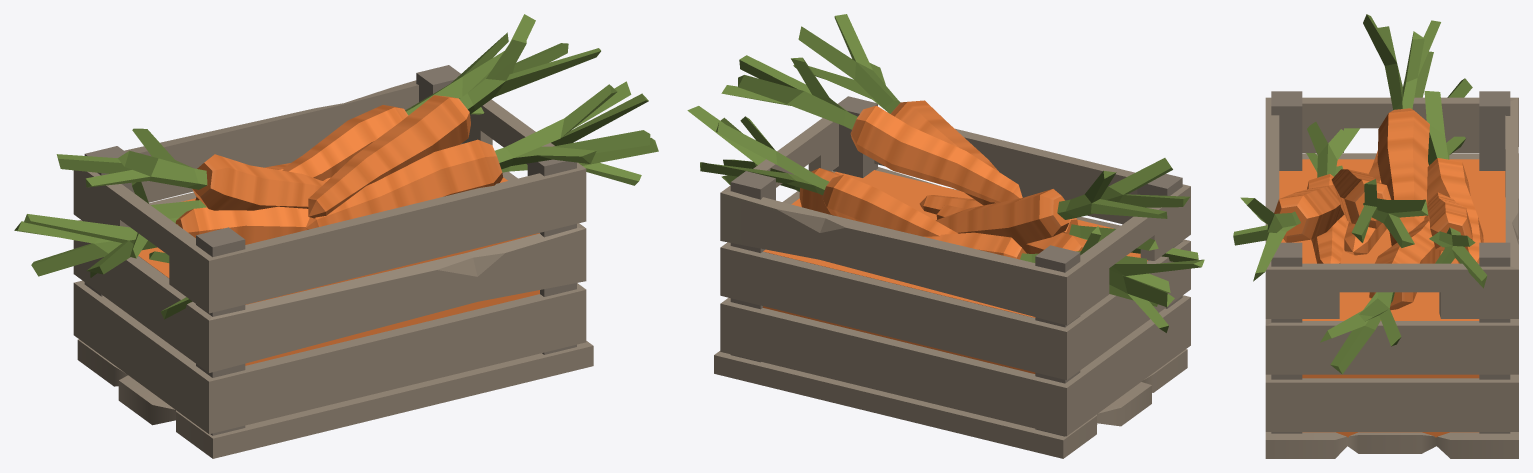
Rendered from SM_Prop_Box_Carrot_01.glb.
The picture shows the model from 3 angles, left to right: view 1: azimuth 30°, elevation 25°; view 2: azimuth 150°, elevation 25°; view 3: azimuth 270°, elevation 25°; orthographic projection. The views are drawn at different scales.
Visible parts, largest first — view 1: SM_Prop_Box_Carrot_01; view 2: SM_Prop_Box_Carrot_01; view 3: SM_Prop_Box_Carrot_01.
Part boxes in pixels (<box>): SM_Prop_Box_Carrot_01: <box>14,14,658,458</box>; SM_Prop_Box_Carrot_01: <box>687,14,1204,458</box>; SM_Prop_Box_Carrot_01: <box>1233,14,1518,458</box>.
Bounding box in the file's own units: 1.14 × 0.5345 × 0.511.
Materials: 1 (1 with a texture image).
